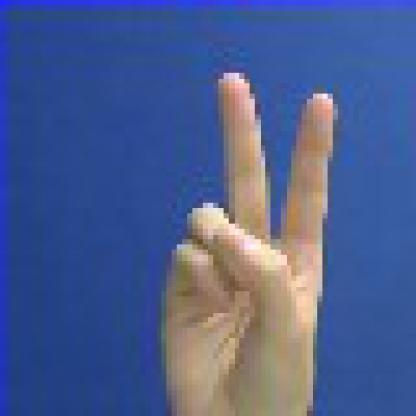two: (146, 57, 343, 411)
